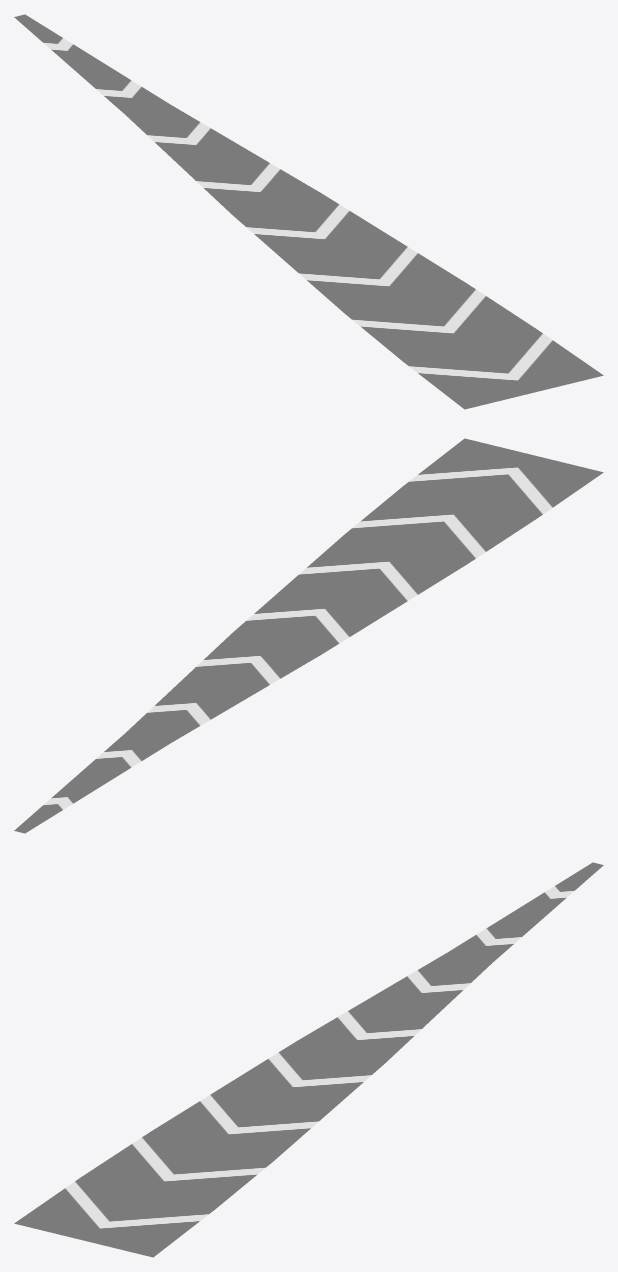
The model's file is Marking_Chevron_Centered_On.fbx.
3 views of the same model, one above another, from view 1: azimuth 30°, elevation 25°; view 2: azimuth 150°, elevation 25°; view 3: azimuth 330°, elevation 25° (orthographic).
Visible parts, largest first — view 1: Marking_Chevron_Centered_On; view 2: Marking_Chevron_Centered_On; view 3: Marking_Chevron_Centered_On.
Part boxes in pixels (x1=…): Marking_Chevron_Centered_On: x1=14, y1=14, x2=603, y2=409; Marking_Chevron_Centered_On: x1=14, y1=438, x2=603, y2=833; Marking_Chevron_Centered_On: x1=14, y1=862, x2=603, y2=1257.
Bounding box in the file's own units: 500 × 3200 × 0.00014.
